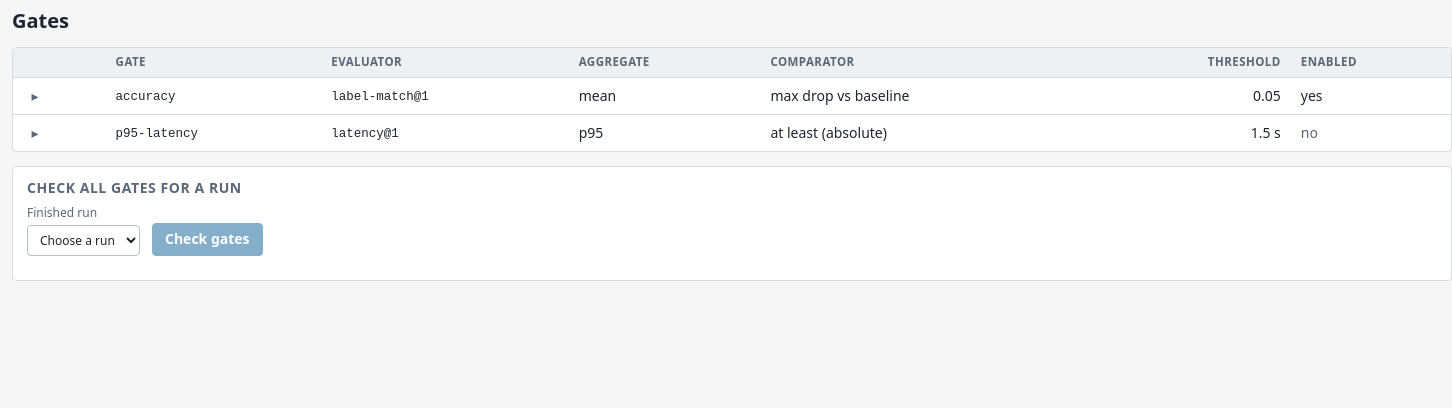
Test: GatesPage › shows the check history for a gate
Click the button named "Show checks for accuracy": coordinates (35, 96) [23,84,47,108]
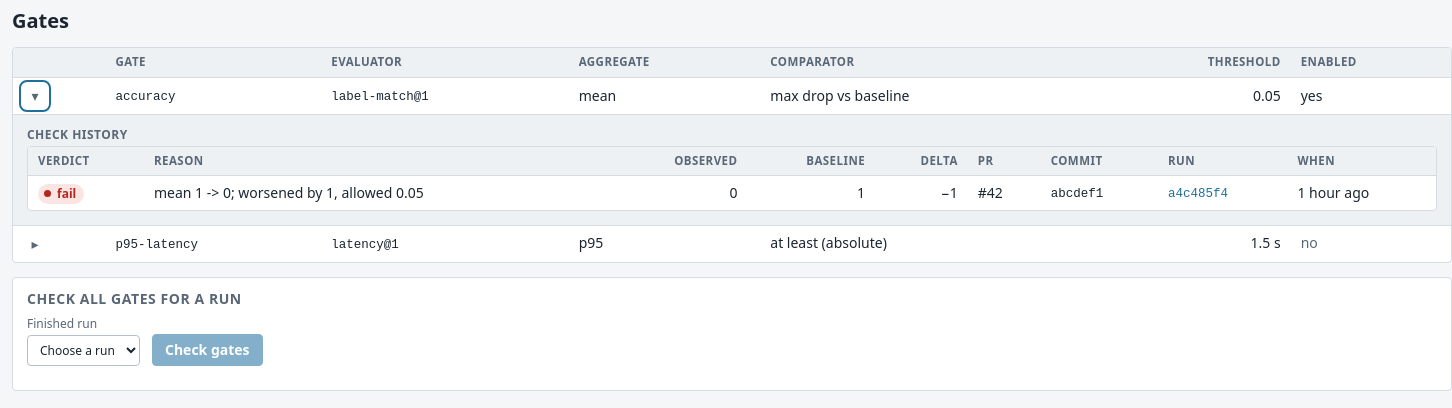
Expected: the text "fail" is shown, [38,184,84,204]
Expected: the text "mean 1 -> 0; worsened by 1, allowed 0.05" is shown, [144,176,613,210]
Expected: the text "#42" is shown, [968,176,1041,210]
